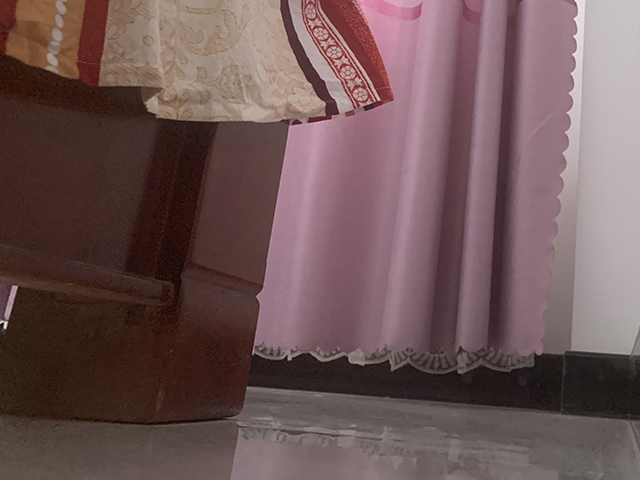curtain: (251, 1, 579, 376)
